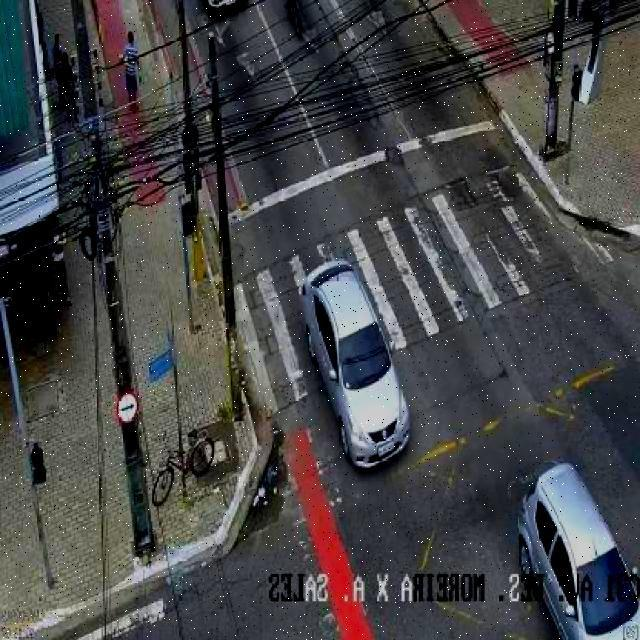Car: (297, 258, 412, 470), (517, 461, 640, 640)
Cycle: (149, 430, 218, 508)
